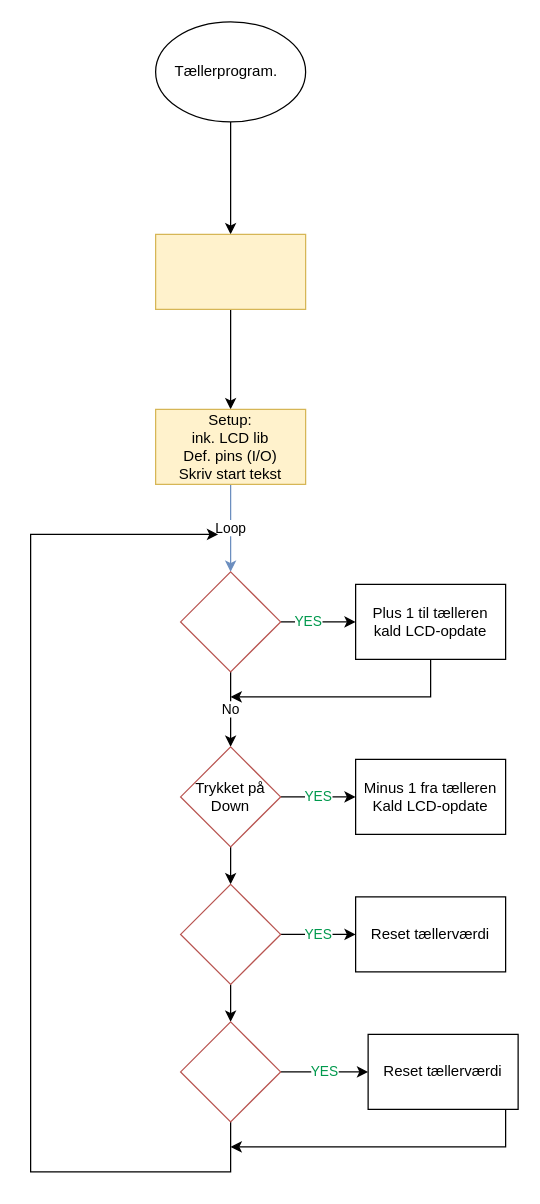
The diagram is 540 pixels wide and 1204 high, and some of its shapes have lost their labels. The shapes that lost their labels are listed below. From the top down, each one's centre as x and y in pixels, then its label:
[230,271]: Definer Pins og variable
[230,621]: Trykket på UP
[230,933]: Trykket på Reset
[230,1071]: Trykket på "R"
